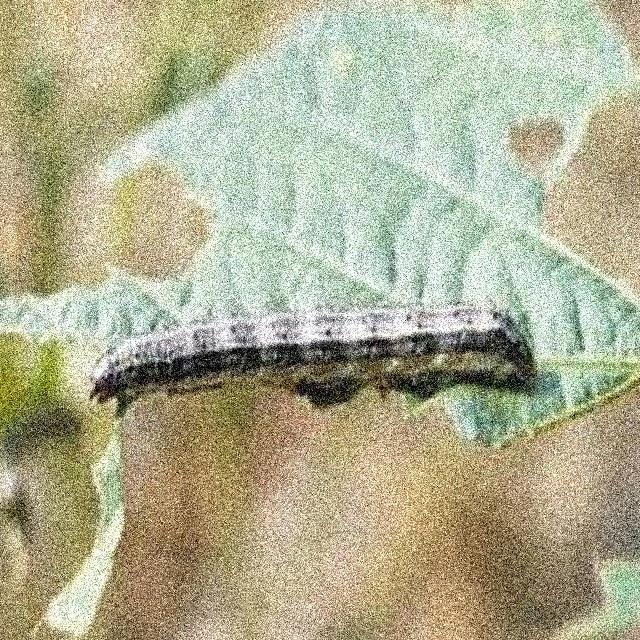gusano_cogollero: (84, 298, 538, 412)
